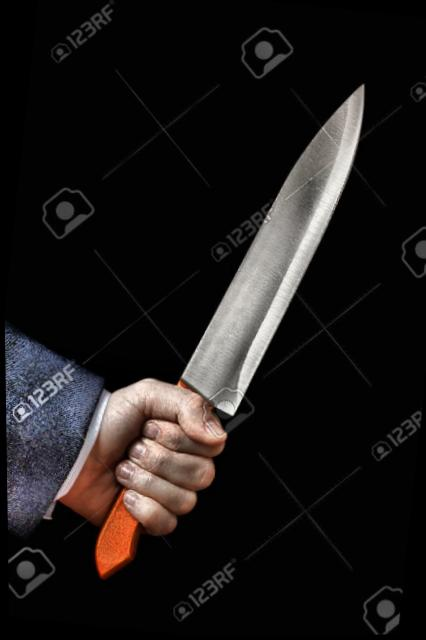knife: (96, 46, 386, 516)
